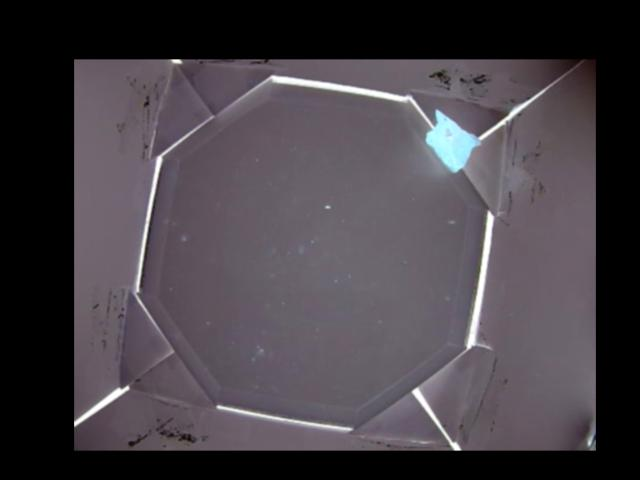Brisk: (425, 110, 482, 171)
